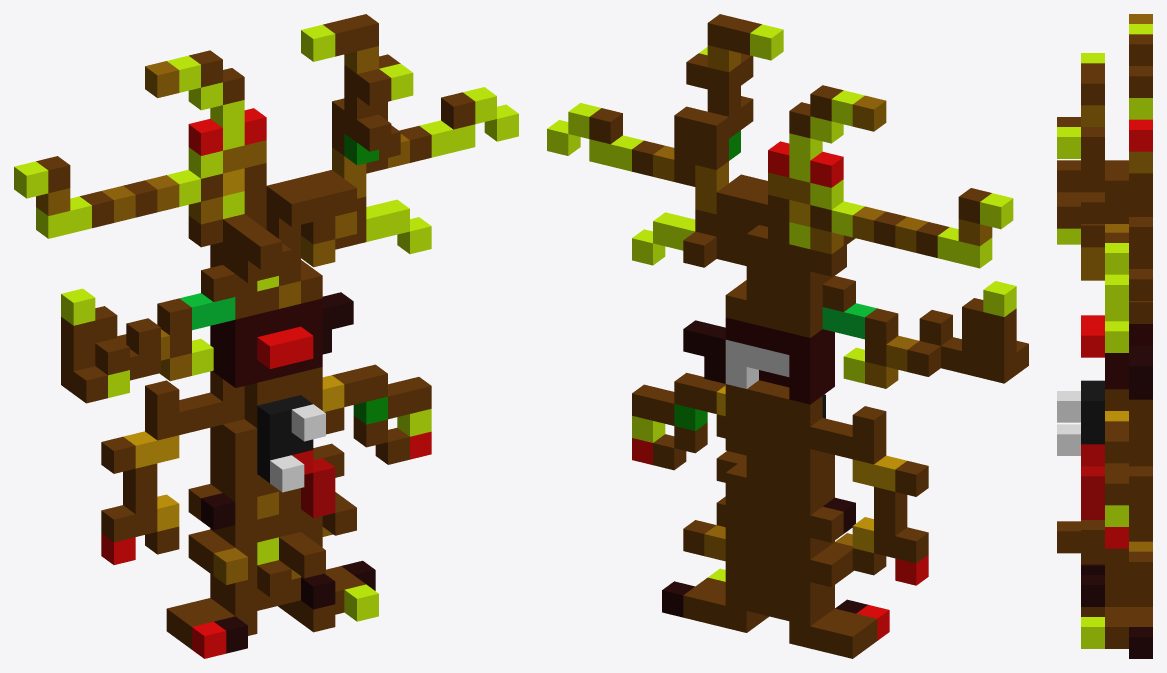
File: Luisa_Fernanda_Suárez_Banoy_fase_4.obj
3 views of the same model, side by side, from view 1: azimuth 30°, elevation 25°; view 2: azimuth 150°, elevation 25°; view 3: azimuth 270°, elevation 25° (orthographic). The views are drawn at different scales.
Visible parts, largest first — view 1: Luisa_Fernanda_Suárez_Banoy_fase_4; view 2: Luisa_Fernanda_Suárez_Banoy_fase_4; view 3: Luisa_Fernanda_Suárez_Banoy_fase_4.
Part boxes in pixels (<box>): Luisa_Fernanda_Suárez_Banoy_fase_4: <box>14,14,518,658</box>; Luisa_Fernanda_Suárez_Banoy_fase_4: <box>547,14,1028,658</box>; Luisa_Fernanda_Suárez_Banoy_fase_4: <box>1057,14,1152,658</box>.
Bounding box in the file's own units: 22 × 26 × 4.
Materials: 1 (1 with a texture image).
